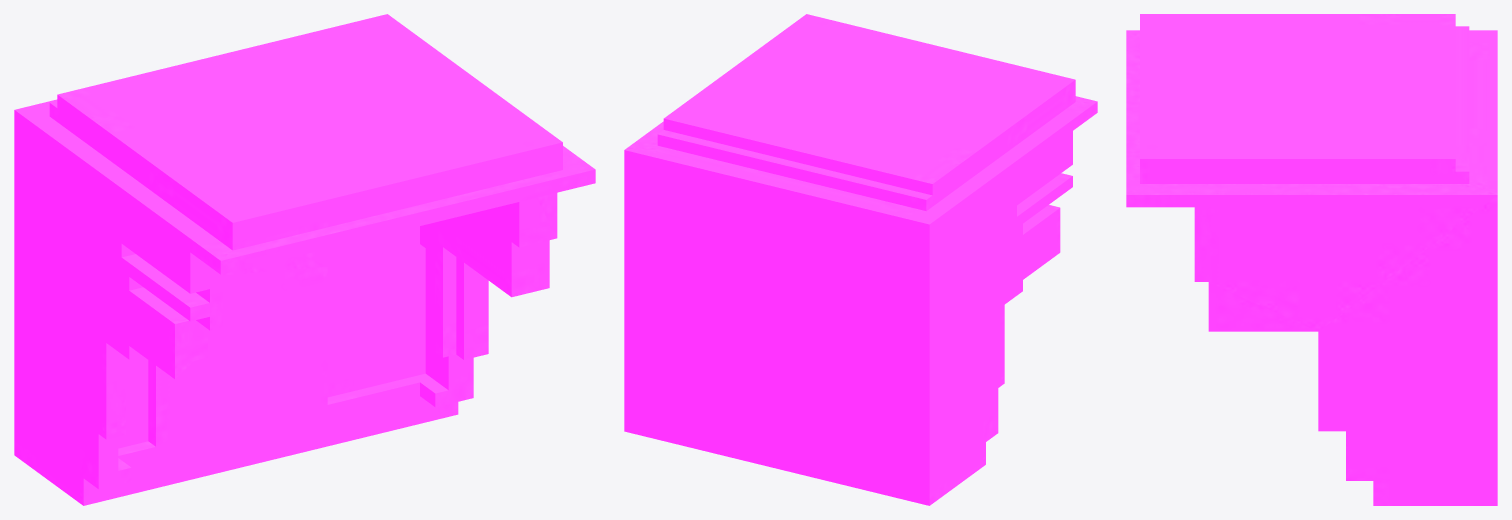
File: cropped_pink.glb
3 renders of one model, left to right at view 1: azimuth 30°, elevation 25°; view 2: azimuth 150°, elevation 25°; view 3: azimuth 270°, elevation 25°, orthographic. The views are drawn at different scales.
Parts seen in each view (by area): view 1: short; view 2: short; view 3: short.
Boxes of the visible parts, x1,y1,x2,y2 form: short: (14,14,595,505); short: (624,14,1097,505); short: (1126,14,1497,505).
Bounding box in the file's own units: 2.84 × 2.7 × 2.71.
1 material, 1 textured.
